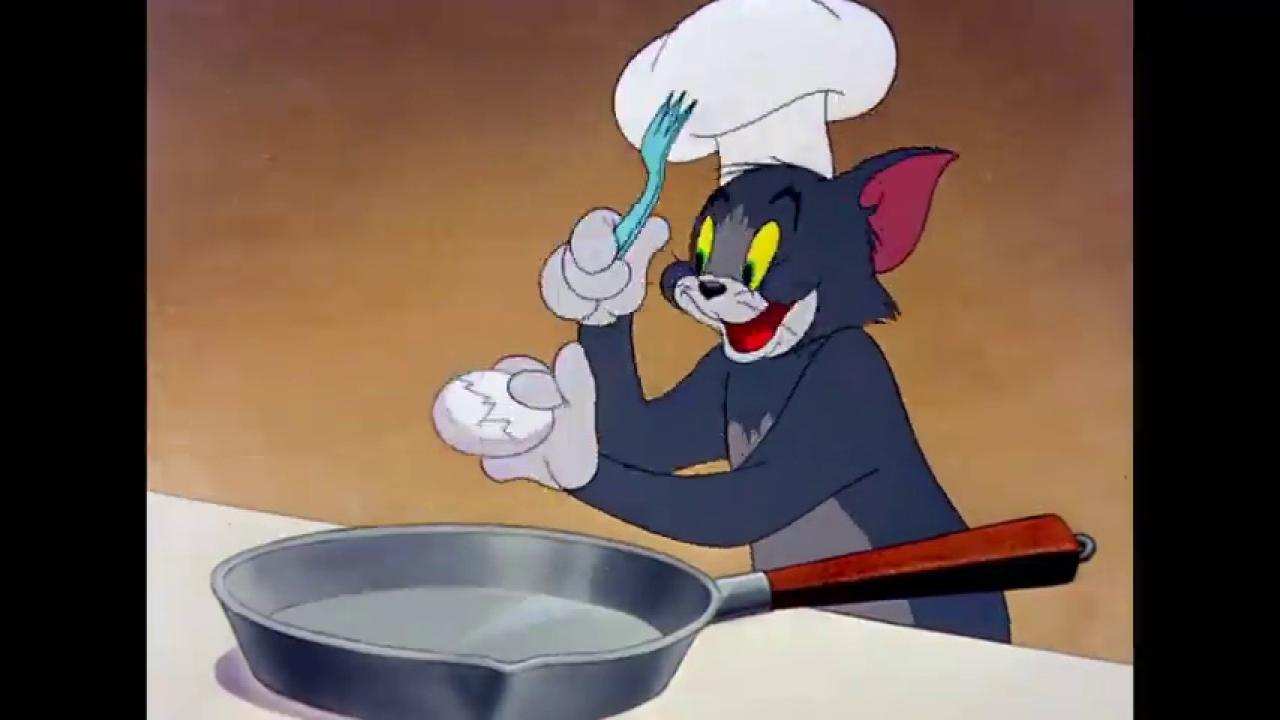Tom: (482, 143, 1012, 645)
